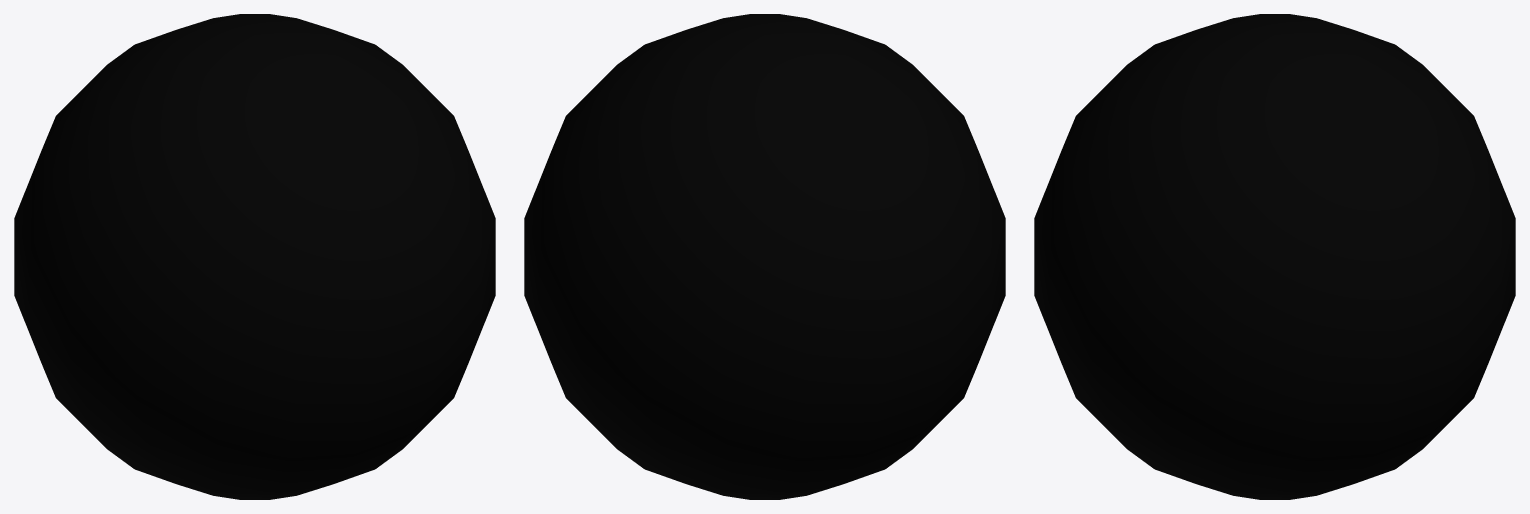
Rendered from explosion.obj.
The picture shows the model from 3 angles, left to right: view 1: azimuth 30°, elevation 25°; view 2: azimuth 150°, elevation 25°; view 3: azimuth 270°, elevation 25°; orthographic projection.
Visible parts, largest first — view 1: Sphere007; view 2: Sphere007; view 3: Sphere007.
Boxes of the visible parts, box(x1,y1,x2,y2) form: Sphere007: box(14, 14, 495, 499); Sphere007: box(524, 14, 1005, 499); Sphere007: box(1034, 14, 1515, 499).
Bounding box in the file's own units: 36.15 × 37.27 × 36.7.
1 material, 1 textured.
